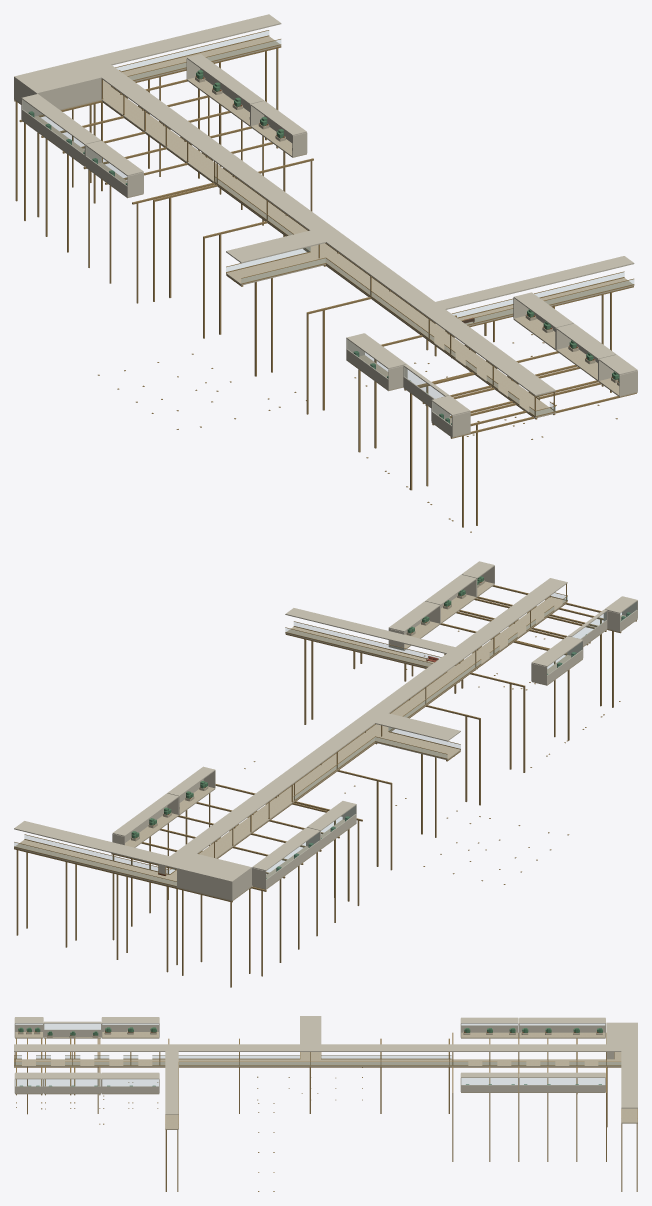
Rendered from D04_PORT_AFT_COMBINEDSTRUCTURE_r001.glb.
The picture shows the model from 3 angles, top to bottom: view 1: azimuth 30°, elevation 25°; view 2: azimuth 150°, elevation 25°; view 3: azimuth 270°, elevation 25°; orthographic projection. The views are drawn at different scales.
Parts seen in each view (by area): view 1: PA_ReceivingRoof, PA_ReceivingFloor, PANR_D04SF_ServiceSouthWall, PANH_D04SFH_D04HC5_west_Roof, PANH_D04SFH_D04HC5_east_Roof, PASH_D04SFH_D04HC_west_Roof, PASH_D04SFH_D04HC_east_Roof, PASH_D04SFH_D04HC2_east_Roof, PANH_D04SFH_D04HC4_west_Roof, PANH_D04SFH_D04HC5_west_PrivacyScreen; view 2: PA_ReceivingRoof, PA_ReceivingFloor, PANR_D04SF_ServiceNorthWall, PANH_D04SFH_D04HC5_west_Roof, PANH_D04SFH_D04HC5_east_Roof, PASH_D04SFH_D04HC_west_Roof, PASH_D04SFH_D04HC_east_Roof, PASH_D04SFH_D04HC2_east_Roof; view 3: PA_ReceivingRoof, PA_ReceivingFloor, PASR_D04SFP_OuterGuard_02, PANH_D04SFH_D04HC5_west_Roof, PANH_D04SFH_D04HC5_east_PrivacyScreen, PANH_D04SFH_D04HC5_east_GlassUpper, PANH_D04SFH_D04HC5_west_PrivacyScreen, PANH_D04SFH_D04HC5_west_Floor, PASH_D04SFP_OuterGuard_08_Successor_5, PANH_D04SFH_D04HC5_east_Roof, PASR_D04SFP_OuterGuard_04, PASH_D04SFH_D04HC_east_Roof (+19 smaller).
Boxes of the visible parts, x1,y1,x2,y2 form: PA_ReceivingRoof: (14,14,634,396); PA_ReceivingFloor: (14,36,634,418); PANR_D04SF_ServiceSouthWall: (38,79,101,114); PANH_D04SFH_D04HC5_west_Roof: (21,94,100,144); PANH_D04SFH_D04HC5_east_Roof: (187,54,264,104); PASH_D04SFH_D04HC_west_Roof: (346,333,406,369); PASH_D04SFH_D04HC_east_Roof: (513,292,573,328); PASH_D04SFH_D04HC2_east_Roof: (556,323,616,359); PANH_D04SFH_D04HC4_west_Roof: (85,140,143,176); PANH_D04SFH_D04HC5_west_PrivacyScreen: (21,109,84,165); PA_ReceivingRoof: (14,578,567,882); PA_ReceivingFloor: (14,597,567,901); PANR_D04SF_ServiceNorthWall: (177,869,232,899); PANH_D04SFH_D04HC5_west_Roof: (252,827,320,870); PANH_D04SFH_D04HC5_east_Roof: (112,793,178,836); PASH_D04SFH_D04HC_west_Roof: (531,636,582,666); PASH_D04SFH_D04HC_east_Roof: (388,601,440,631); PASH_D04SFH_D04HC2_east_Roof: (425,574,476,605); PA_ReceivingRoof: (14,1016,637,1114); PA_ReceivingFloor: (14,1052,637,1129); PASR_D04SFP_OuterGuard_02: (179,1062,451,1064); PANH_D04SFH_D04HC5_west_Roof: (519,1017,605,1023); PANH_D04SFH_D04HC5_east_PrivacyScreen: (519,1085,605,1091); PANH_D04SFH_D04HC5_east_GlassUpper: (520,1078,604,1084); PANH_D04SFH_D04HC5_west_PrivacyScreen: (519,1025,605,1032); PANH_D04SFH_D04HC5_west_Floor: (519,1032,605,1038); PASH_D04SFP_OuterGuard_08_Successor_5: (152,1055,299,1058); PANH_D04SFH_D04HC5_east_Roof: (519,1072,605,1077); PASR_D04SFP_OuterGuard_04: (321,1055,451,1058); PASH_D04SFH_D04HC_east_Roof: (102,1072,159,1079).
Size of the model in its own units: 78.59 by 24.16 by 159.
Materials: 17 (14 with a texture image).
